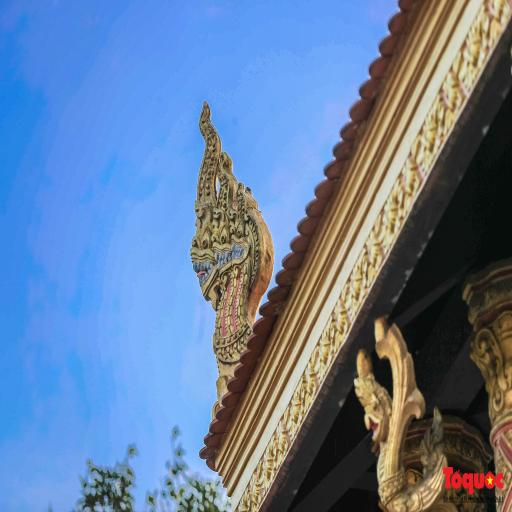ran: (186, 98, 270, 394)
than: (353, 316, 459, 512)
